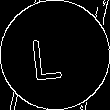L_N: (37, 28, 73, 82)
